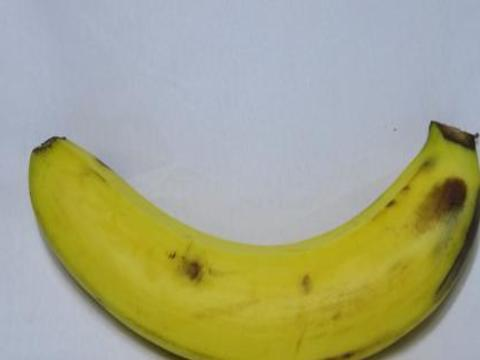freshripe: (17, 111, 479, 359)
